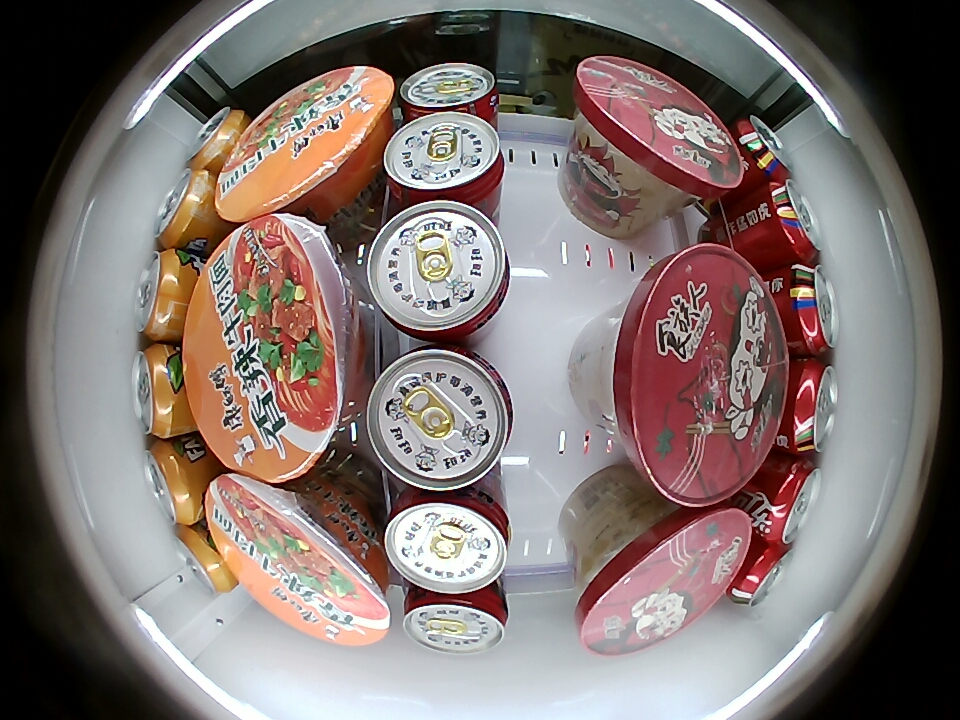fenda: (133, 250, 189, 340), (154, 168, 215, 249), (143, 440, 200, 525), (131, 345, 183, 438), (174, 524, 234, 595), (186, 107, 246, 171)
kele: (755, 456, 822, 546), (783, 359, 838, 454), (783, 263, 839, 356), (765, 180, 823, 262), (730, 541, 793, 608), (734, 115, 793, 183)
suanlafen: (604, 242, 785, 506), (576, 502, 753, 655), (573, 56, 742, 202)
wangzainiunai: (364, 345, 514, 491), (362, 199, 511, 342), (383, 484, 512, 594), (382, 112, 506, 211), (401, 583, 508, 655), (398, 63, 498, 125)
xianglaniurou: (185, 215, 356, 483), (206, 476, 389, 647), (215, 66, 393, 222)
